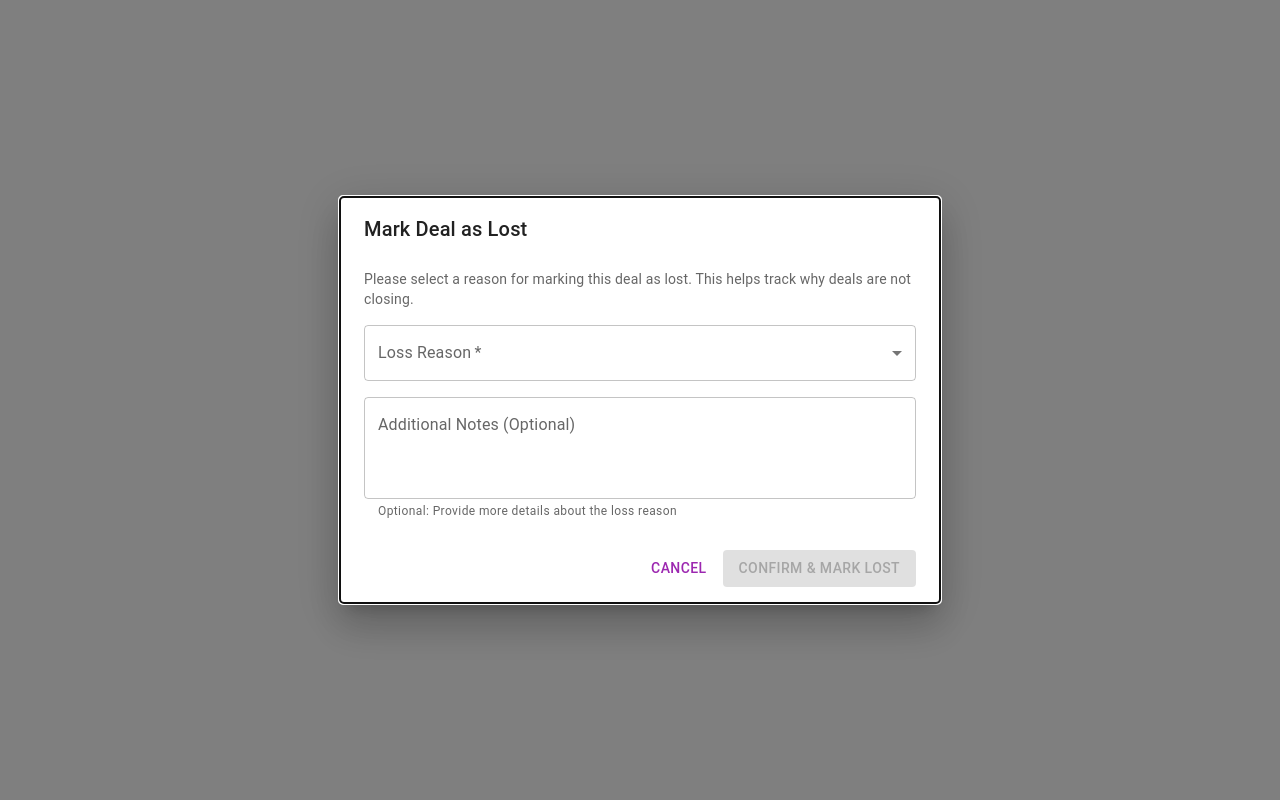
Test case: LostReasonModal › enables confirm button when a reason is selected
Note: Open the dropdown
Click the dropdown named "Loss Reason".
click(640, 353)  # box [364,325,916,381]
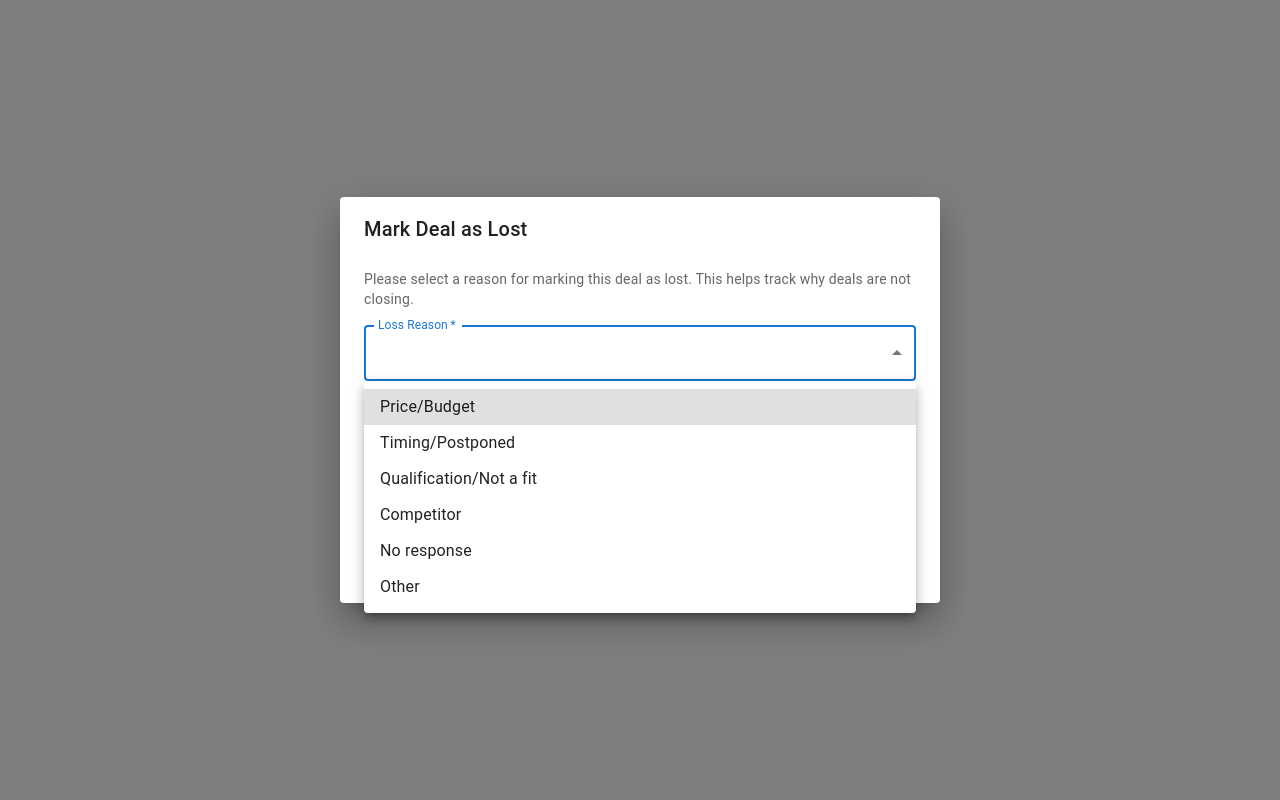
Note: Select a reason
Click the option "Price/Budget".
click(428, 406)  # box [364,389,916,425]
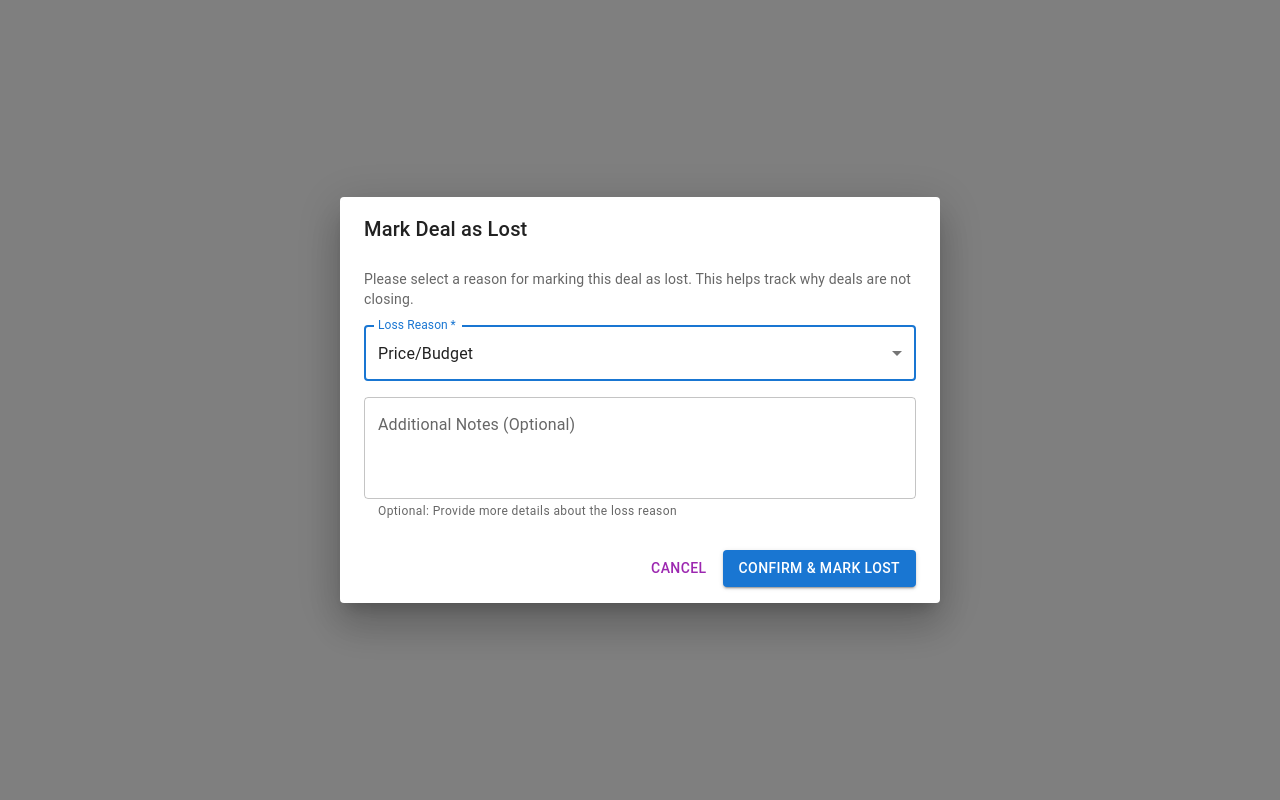
Check: the button "Confirm & Mark Lost" is enabled, box [722,550,916,587]
